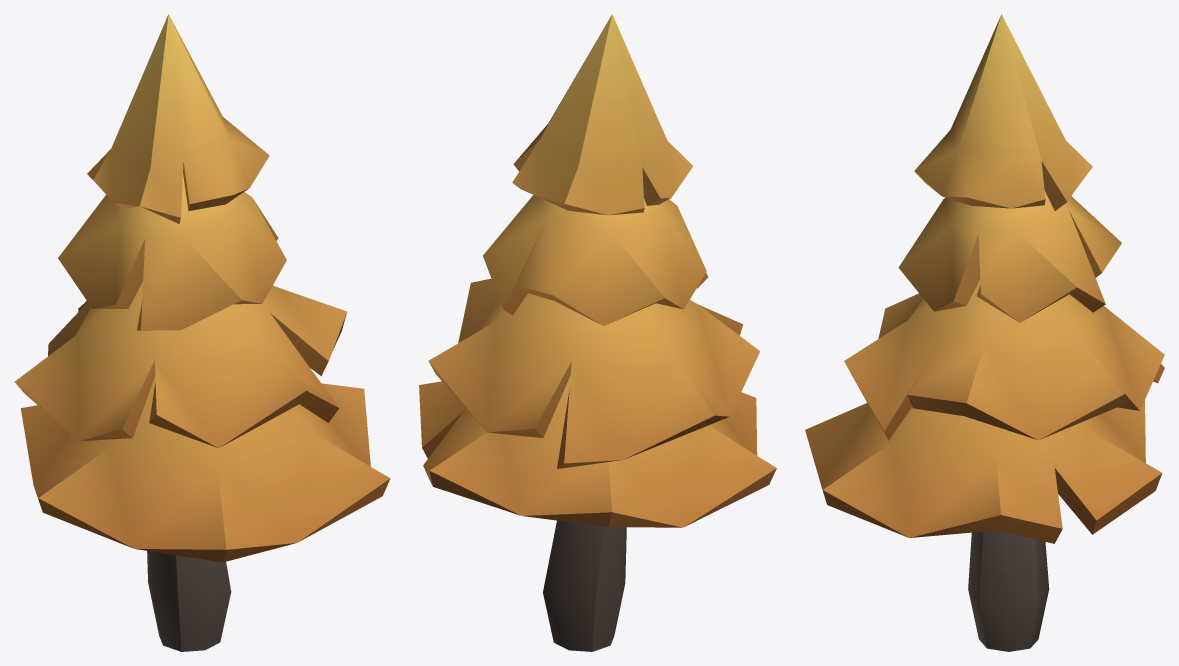
File: tree-pine-yellow-medium.glb
The picture shows the model from 3 angles, left to right: view 1: azimuth 30°, elevation 25°; view 2: azimuth 150°, elevation 25°; view 3: azimuth 270°, elevation 25°; orthographic projection. The views are drawn at different scales.
Parts seen in each view (by area): view 1: tree_pine_yellow_medium; view 2: tree_pine_yellow_medium; view 3: tree_pine_yellow_medium.
Boxes of the visible parts, <box> form: tree_pine_yellow_medium: <box>14,14,390,651</box>; tree_pine_yellow_medium: <box>419,14,776,651</box>; tree_pine_yellow_medium: <box>805,14,1164,651</box>.
Bounding box in the file's own units: 3.33 × 5.87 × 3.12.
Materials: 1 (1 with a texture image).
